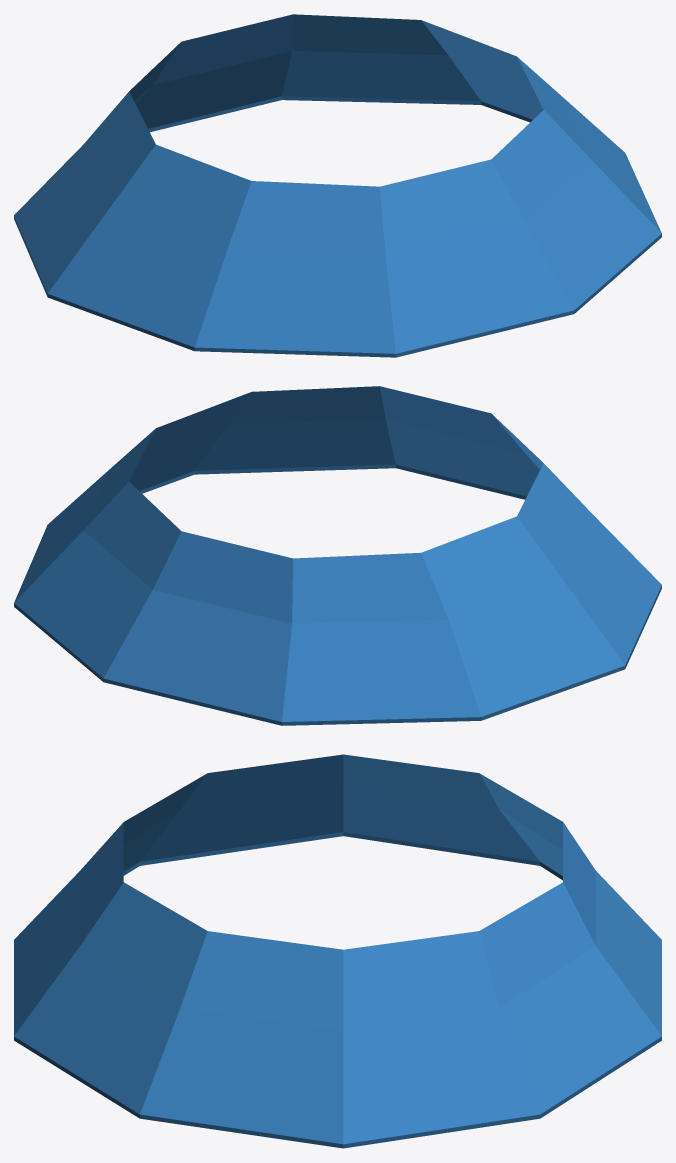
The model's file is robe.glb.
The picture shows the model from 3 angles, top to bottom: view 1: azimuth 30°, elevation 25°; view 2: azimuth 150°, elevation 25°; view 3: azimuth 270°, elevation 25°; orthographic projection. The views are drawn at different scales.
Parts seen in each view (by area): view 1: robe; view 2: robe; view 3: robe.
Boxes of the visible parts, bbox=[...] form: robe: bbox=[14, 14, 661, 357]; robe: bbox=[14, 386, 661, 725]; robe: bbox=[14, 754, 661, 1148].
Size of the model in its own units: 3.2 by 0.67 by 2.81.
Materials: 1 (1 with a texture image).
